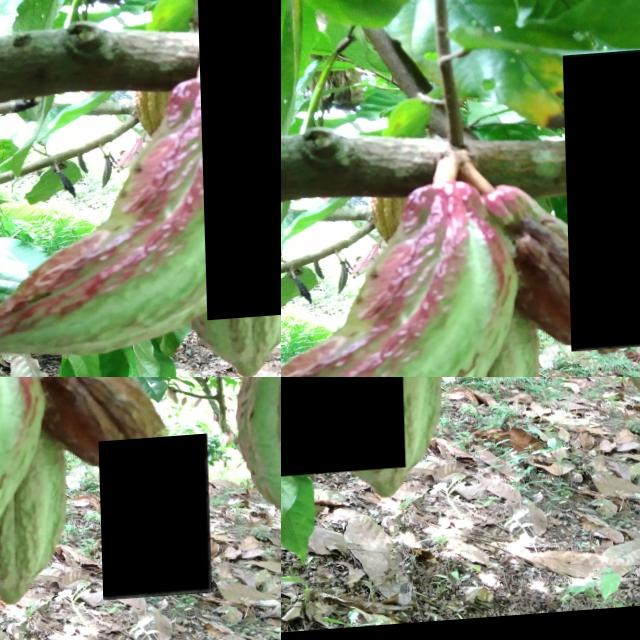Sana: (196, 0, 281, 323), (562, 52, 640, 356), (97, 441, 208, 605), (320, 377, 436, 507), (267, 415, 281, 453)
